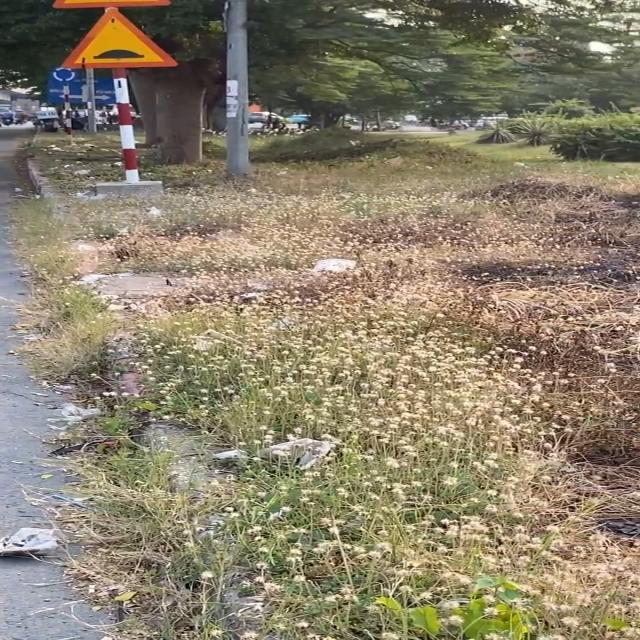221-duong-go-ghe: (60, 8, 170, 70)
303-noi-giao-nhau-chay-theo-vong-xuyen: (46, 61, 84, 86)
